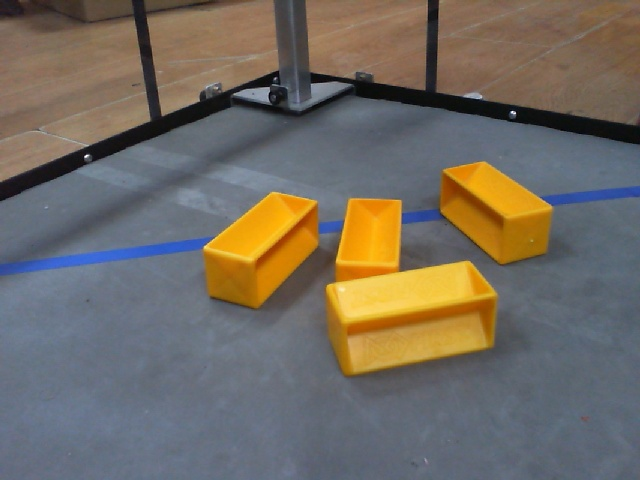YellowSample: (315, 259, 502, 377), (198, 189, 321, 311), (433, 154, 554, 274), (334, 189, 409, 292)
